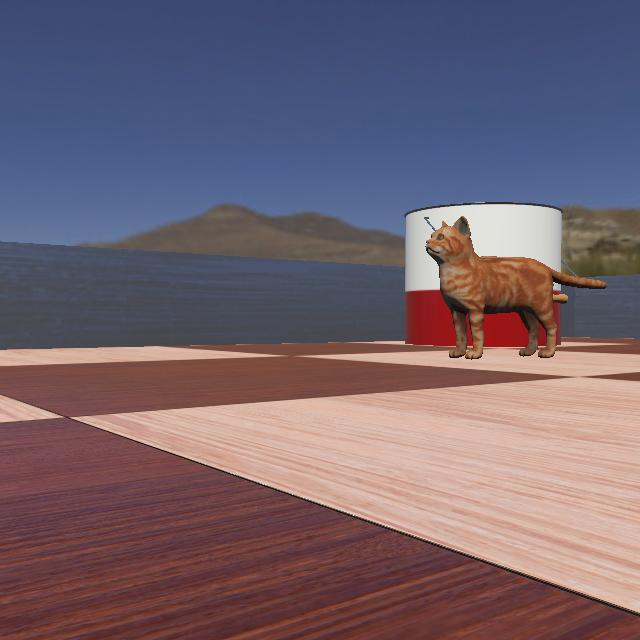cat: (410, 212, 640, 360)
